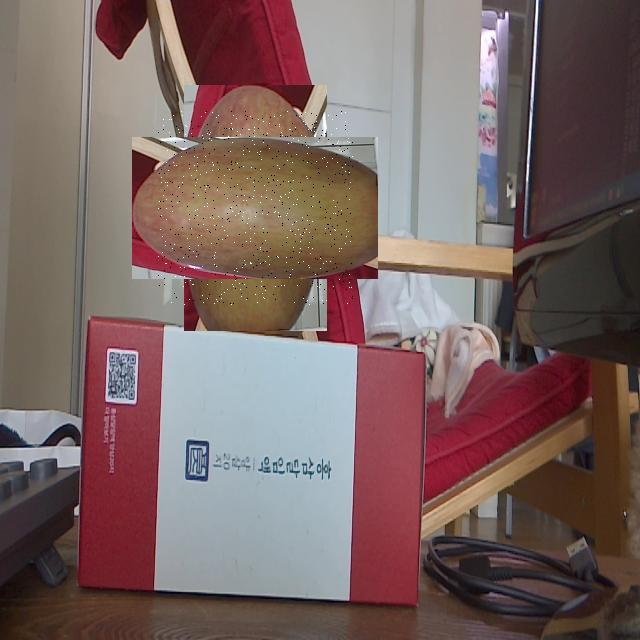apple: (158, 111, 353, 305)
